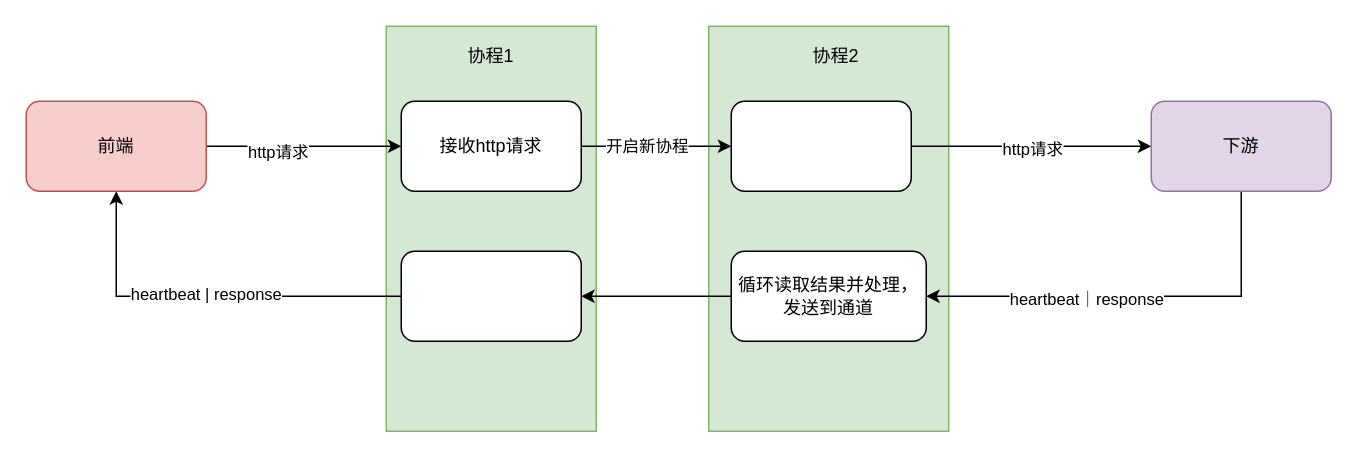
This 1358x458 diagram has some shape labels left out. Here are the shapes that lost their labels. From the top down, the box of each, then its label:
(730, 100, 911, 191): 向下游发起http请求
(400, 250, 581, 341): 循环等待通道结果并发送给前端
